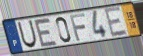0: (55, 16, 72, 44)
4: (92, 9, 108, 40)
E: (33, 17, 59, 49), (103, 6, 128, 39)
F: (69, 12, 87, 42)
U: (16, 20, 38, 50)
